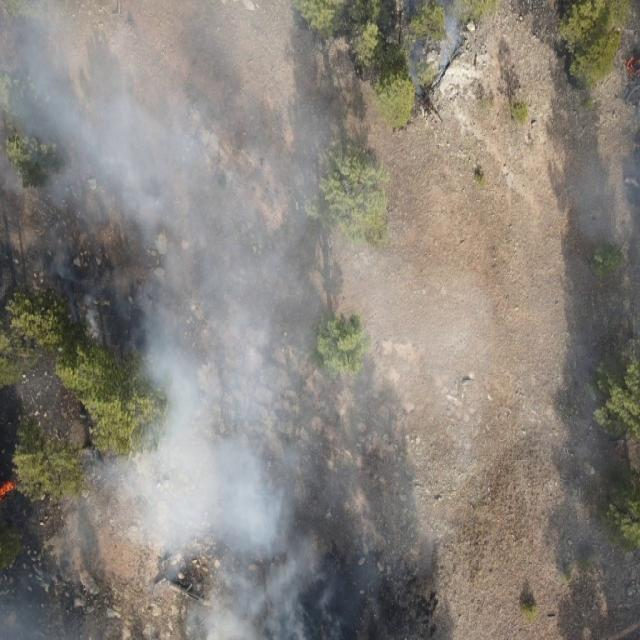fire: (623, 52, 640, 78), (0, 478, 18, 502)
smoke: (0, 0, 376, 640), (375, 251, 492, 517), (554, 342, 640, 593), (566, 134, 640, 258), (400, 0, 468, 119), (376, 517, 456, 585)
